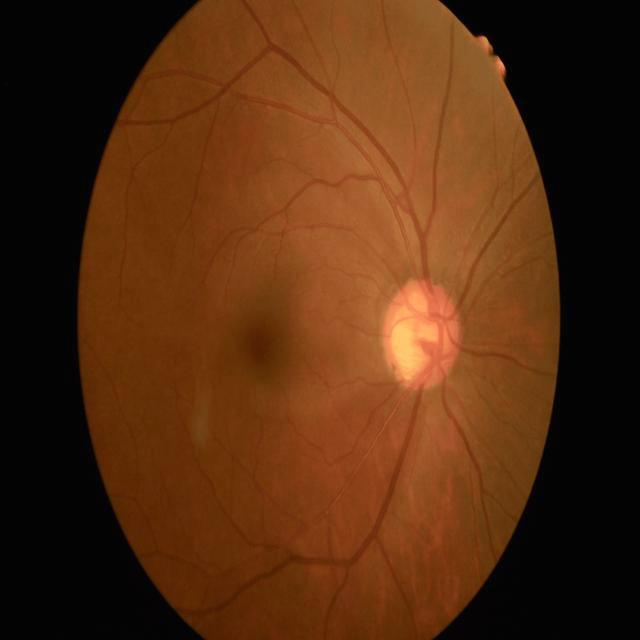cup: (390, 297, 450, 377)
disk: (384, 278, 464, 390)
